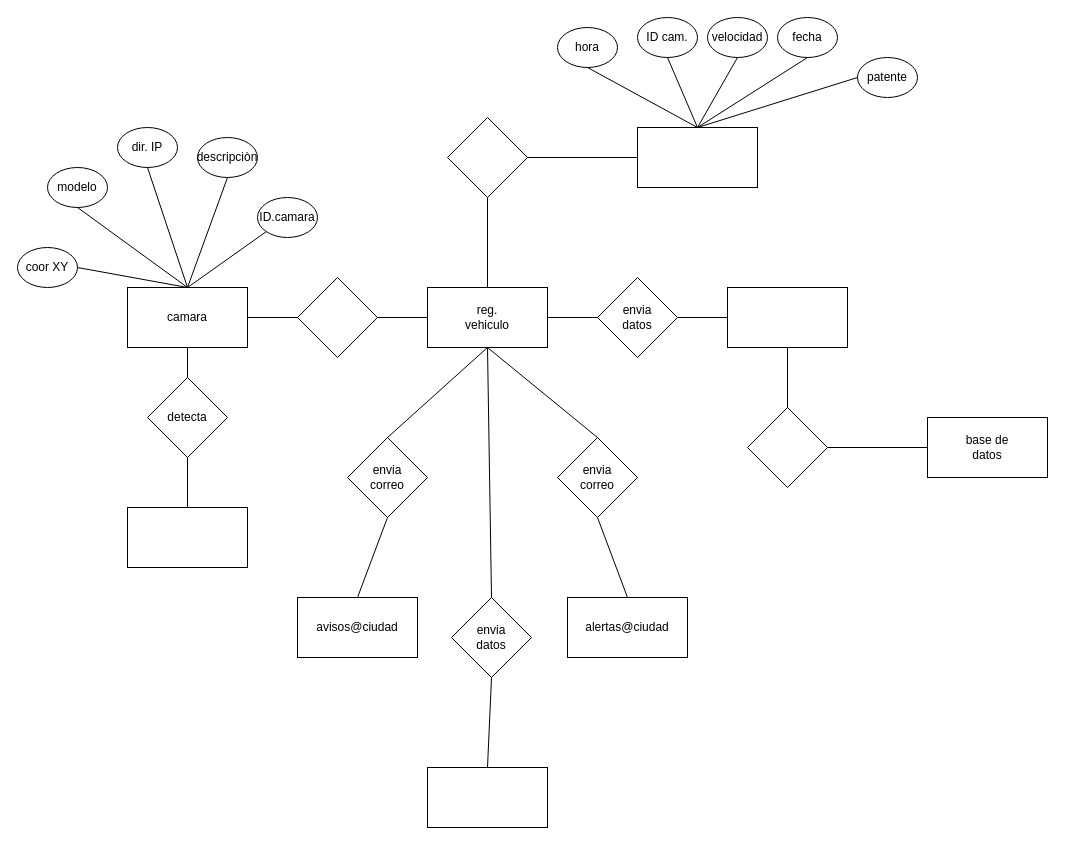
The diagram is 1065 pixels wide and 845 high, and some of its shapes have lost their labels. Here are the shapes that lost their labels. From the top down, the centre of each, then its label:
At pixel 487 157: "tiene".
At pixel 697 157: "datos".
At pixel 337 317: "envia reg.".
At pixel 787 317: "API".
At pixel 787 447: "guarda en".
At pixel 187 537: "vehiculo".
At pixel 487 797: "impresora".
